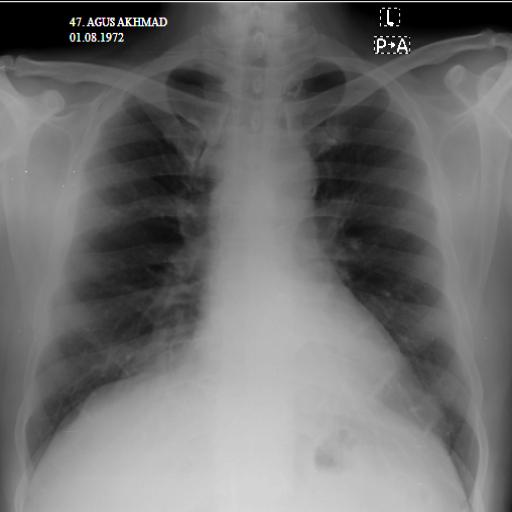kardiomegali: (8, 22, 489, 500)
